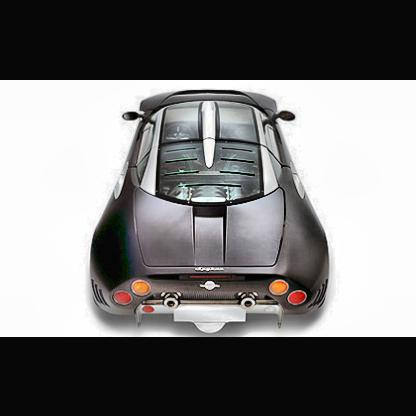Spyker C8 Coupe 2009: (91, 91, 331, 335)
